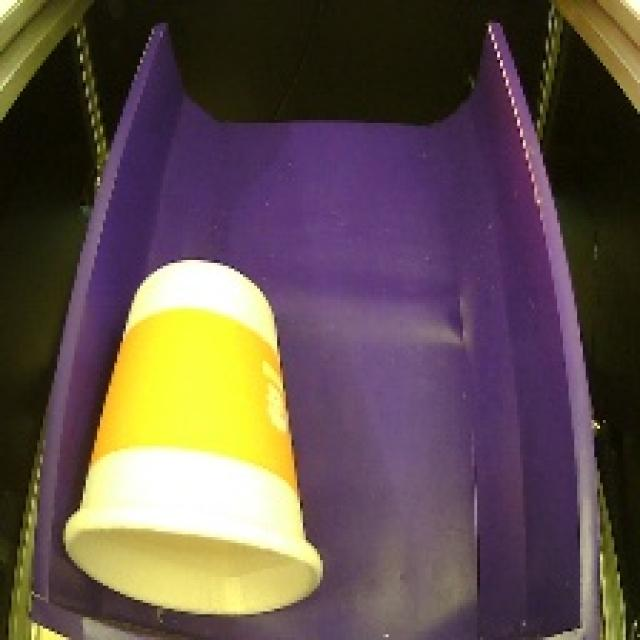cups: (57, 245, 334, 625)
